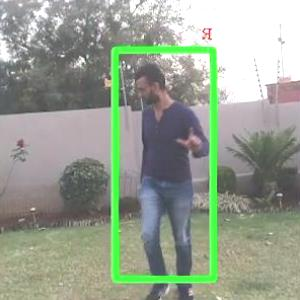land_hand: (175, 123, 205, 150)
